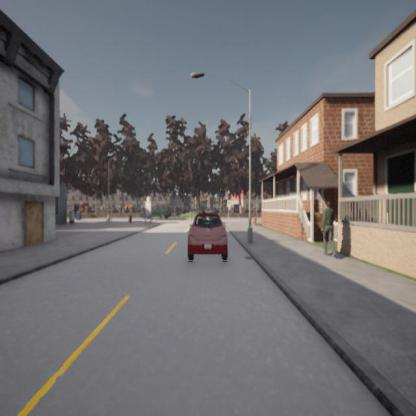person: (319, 200, 336, 257)
vehicle: (185, 212, 229, 261)
